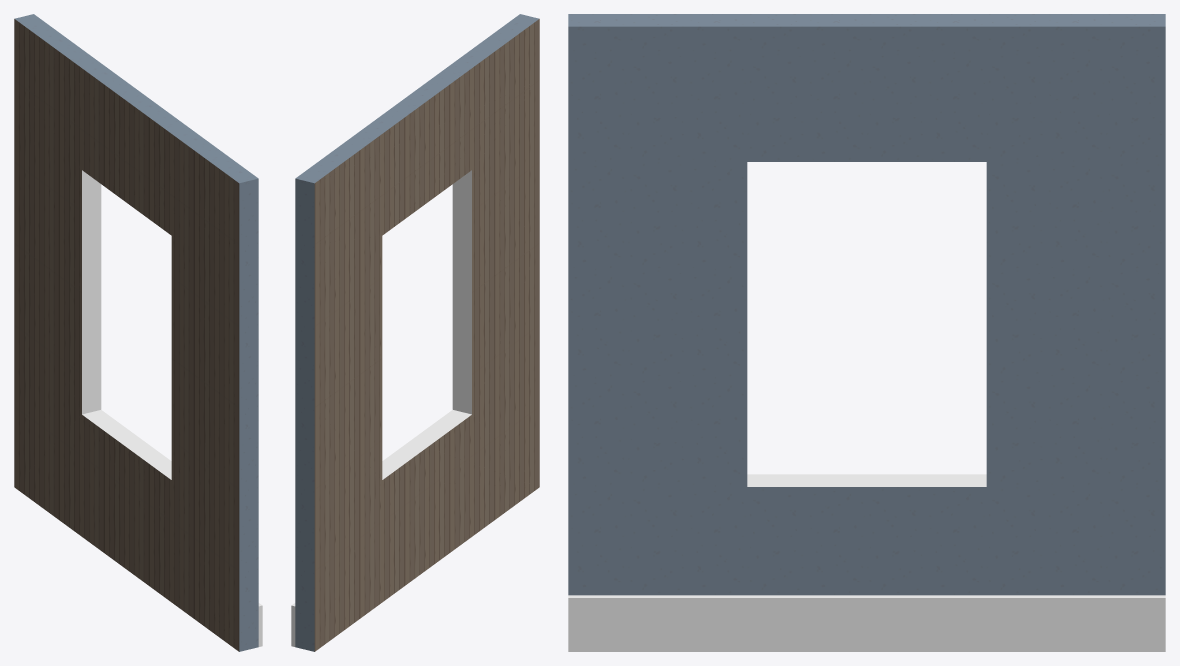
File: Tile_House_Wall_Window_01.obj
The picture shows the model from 3 angles, left to right: view 1: azimuth 30°, elevation 25°; view 2: azimuth 150°, elevation 25°; view 3: azimuth 270°, elevation 25°; orthographic projection. The views are drawn at different scales.
Parts seen in each view (by area): view 1: Tile_House_Wall_Window_01_mi_HouseExteriorWalls_01, Tile_House_Wall_Window_01_mi_HouseInteriorWalls_02, Tile_House_Wall_Window_01_mi_WhiteTrim; view 2: Tile_House_Wall_Window_01_mi_HouseExteriorWalls_01, Tile_House_Wall_Window_01_mi_HouseInteriorWalls_02, Tile_House_Wall_Window_01_mi_WhiteTrim; view 3: Tile_House_Wall_Window_01_mi_HouseInteriorWalls_02, Tile_House_Wall_Window_01_mi_WhiteTrim.
Part boxes in pixels (<box>): Tile_House_Wall_Window_01_mi_HouseExteriorWalls_01: <box>14,19,239,651</box>; Tile_House_Wall_Window_01_mi_HouseInteriorWalls_02: <box>15,14,258,651</box>; Tile_House_Wall_Window_01_mi_WhiteTrim: <box>82,170,262,646</box>; Tile_House_Wall_Window_01_mi_HouseExteriorWalls_01: <box>314,19,539,651</box>; Tile_House_Wall_Window_01_mi_HouseInteriorWalls_02: <box>295,14,538,651</box>; Tile_House_Wall_Window_01_mi_WhiteTrim: <box>291,170,471,646</box>; Tile_House_Wall_Window_01_mi_HouseInteriorWalls_02: <box>568,14,1165,595</box>; Tile_House_Wall_Window_01_mi_WhiteTrim: <box>568,474,1165,651</box>.
Bounding box in the file's own units: 0.3 × 5.75 × 5.
Materials: 3 (2 with a texture image).
